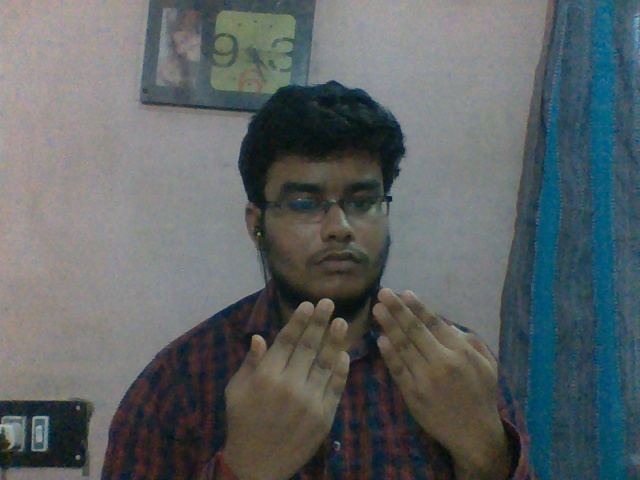ThankYou: (222, 288, 502, 467)
